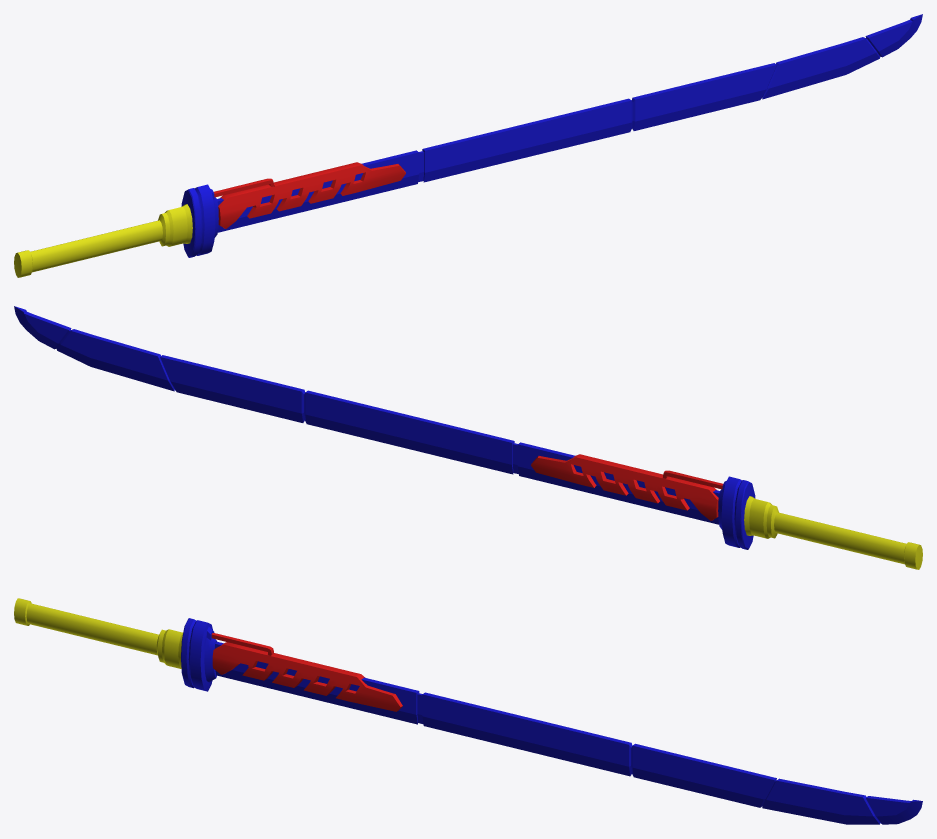
Rendered from MookWorkshopKatana.fbx.
3 renders of one model, top to bottom at view 1: azimuth 30°, elevation 25°; view 2: azimuth 150°, elevation 25°; view 3: azimuth 330°, elevation 25°, orthographic.
Parts seen in each view (by area): view 1: Mook Workshop - Katana; view 2: Mook Workshop - Katana; view 3: Mook Workshop - Katana.
Boxes of the visible parts, left/top/right/bottom form: Mook Workshop - Katana: left=14, top=14, right=922, bottom=277; Mook Workshop - Katana: left=14, top=306, right=922, bottom=569; Mook Workshop - Katana: left=14, top=598, right=922, bottom=824.
Bounding box in the file's own units: 172 × 12.53 × 4.87.
